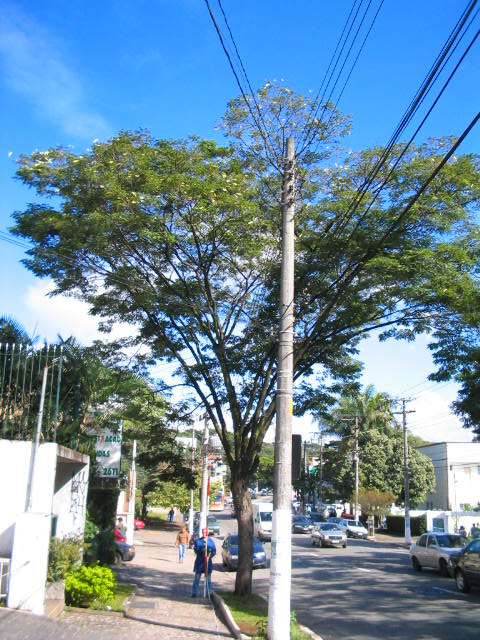crown: (8, 80, 477, 430)
stem: (222, 476, 264, 595)
stick: (197, 476, 216, 598)
tree: (7, 79, 479, 597)
